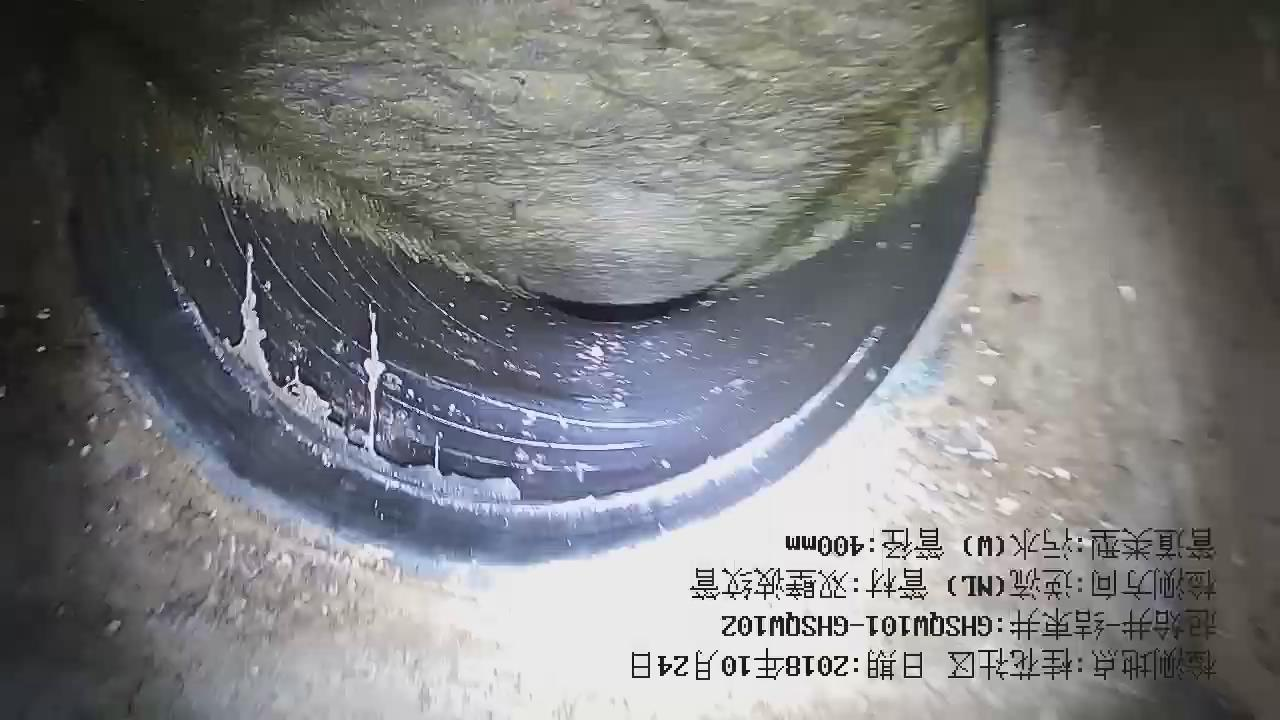FZ: (112, 1, 983, 305)
